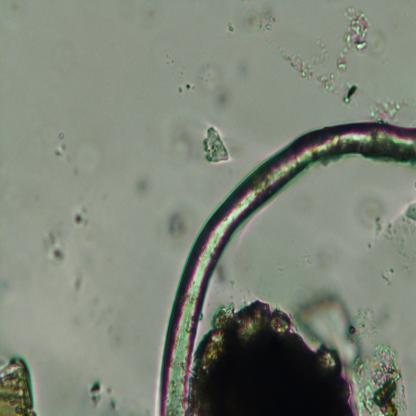Background material: (192, 289, 408, 416), (282, 4, 371, 110), (369, 189, 416, 264), (0, 347, 38, 416), (196, 61, 236, 122), (166, 117, 201, 167), (354, 188, 386, 235), (200, 122, 232, 167), (243, 3, 279, 39), (366, 92, 404, 124), (74, 139, 103, 180), (34, 228, 66, 264), (161, 204, 191, 242), (215, 259, 237, 290), (71, 265, 92, 296), (368, 28, 390, 56), (53, 132, 72, 164), (84, 379, 102, 410), (70, 203, 92, 228), (131, 170, 151, 194), (104, 384, 119, 413), (222, 22, 236, 36), (173, 81, 190, 92)
Microfibre: (155, 122, 416, 414)
